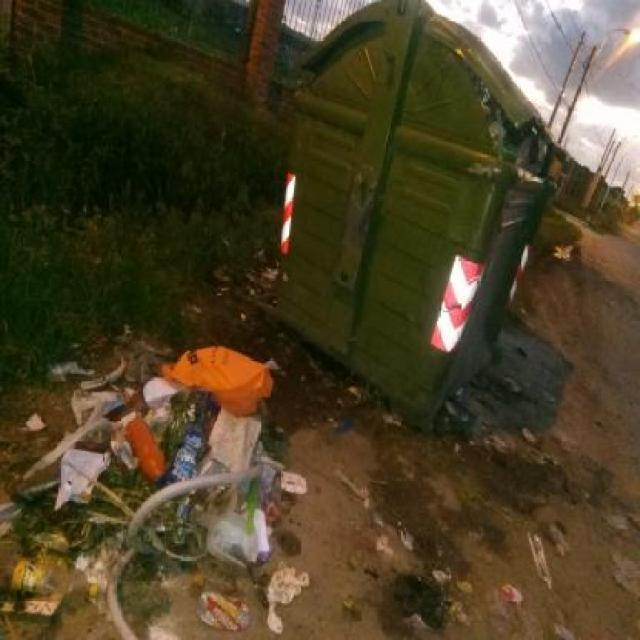garbage: (0, 348, 294, 631), (345, 480, 525, 608), (474, 80, 558, 168), (452, 396, 544, 472), (526, 528, 558, 598)
